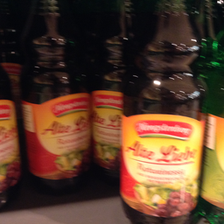vinegar: (122, 3, 198, 224), (20, 1, 95, 190)
